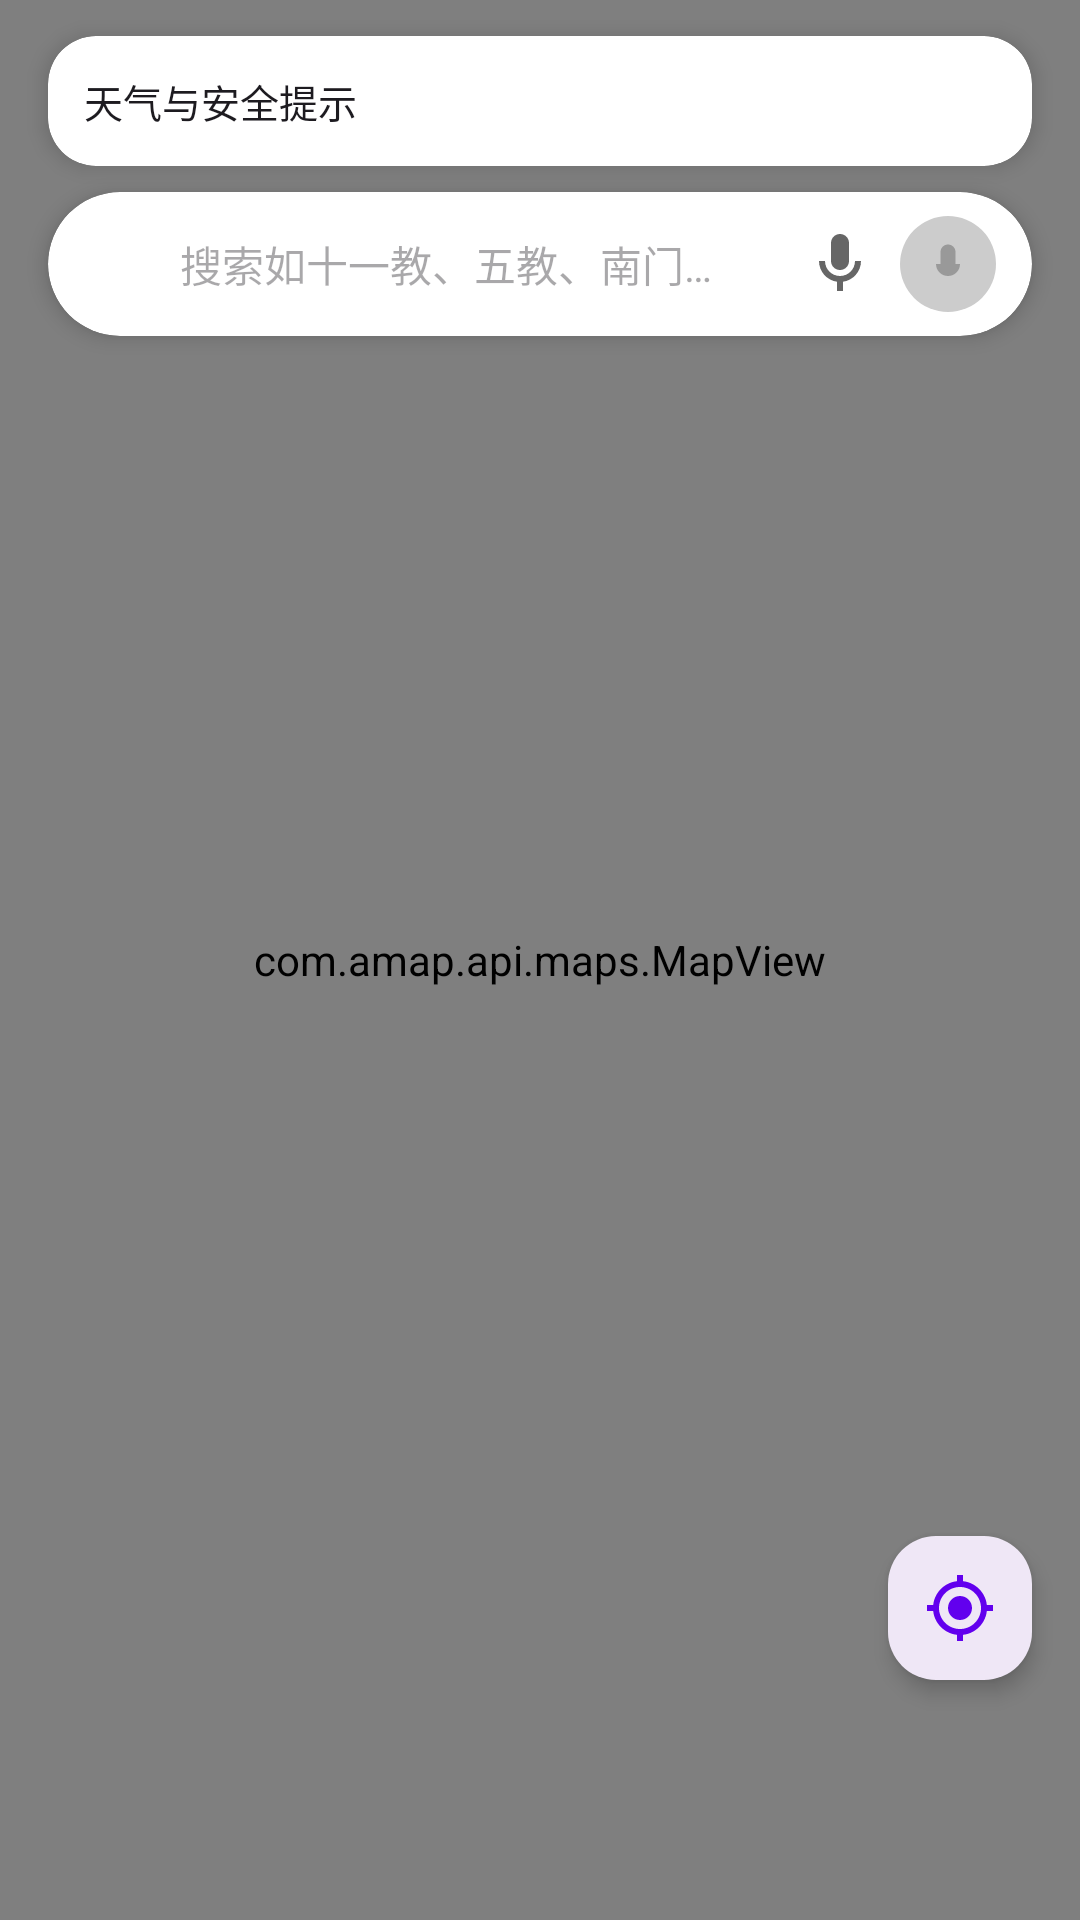

Named icons in this screenshot (1080x1920) and their bounding boxes, region(x1, y1, x2, y2):
我的位置: region(888, 1536, 1032, 1680)
语音搜索: region(819, 234, 861, 291)
